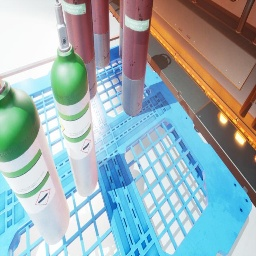0: (0, 75, 70, 245), (50, 0, 98, 197)
NitrogenTank ,: (121, 0, 153, 116), (62, 0, 97, 100), (91, 0, 110, 68), (119, 0, 124, 60)
